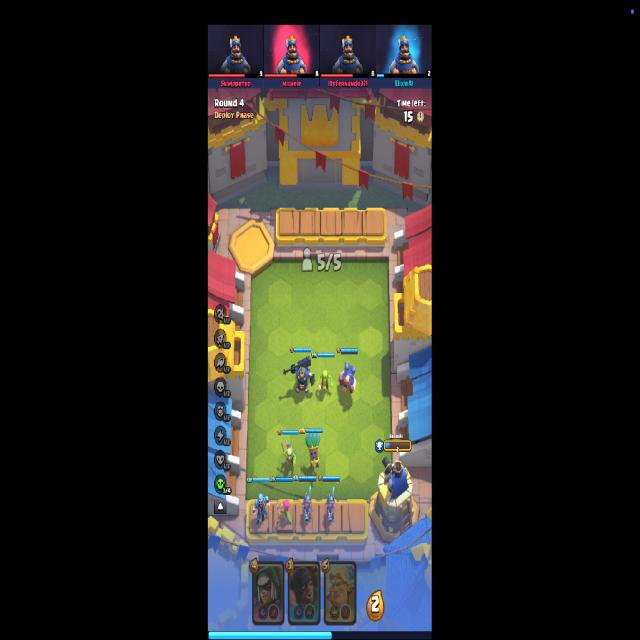archer: (277, 498, 293, 530)
card_bandit: (252, 560, 284, 625)
card_executioner: (288, 562, 320, 626)
card_golden_knight: (324, 560, 356, 626)
dart_goblin: (304, 433, 321, 473)
electro_giant: (337, 365, 358, 396)
goblin: (317, 371, 333, 396)
musketeer: (302, 486, 314, 522), (325, 487, 336, 523)
skeleton_king: (282, 356, 314, 398)
spear_goblin: (280, 440, 296, 470)
wizard: (252, 494, 269, 524)
